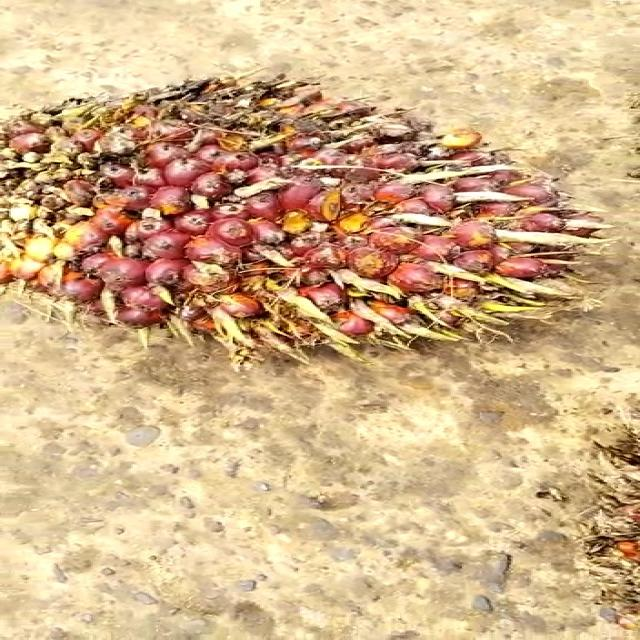palm oil: (0, 76, 602, 356)
